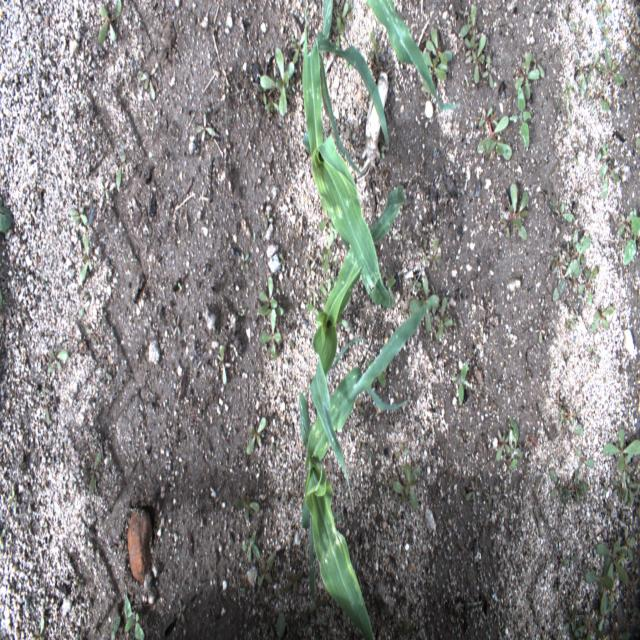crop: (298, 300, 434, 638), (309, 185, 406, 495), (302, 9, 393, 309), (321, 0, 459, 111)
weed: (258, 47, 294, 116), (477, 106, 512, 160), (410, 270, 440, 332), (500, 182, 530, 240), (602, 429, 640, 472), (392, 463, 421, 510), (596, 542, 628, 584), (549, 252, 575, 303), (509, 85, 530, 148), (422, 51, 449, 99), (565, 227, 591, 276), (556, 82, 583, 128), (258, 308, 282, 359), (515, 52, 540, 99), (596, 46, 626, 85), (502, 414, 522, 470), (464, 34, 486, 84), (425, 28, 453, 66), (98, 0, 122, 44), (577, 264, 599, 307), (600, 557, 616, 615), (125, 594, 145, 640), (561, 468, 587, 503), (318, 195, 338, 240), (433, 296, 453, 340), (598, 160, 620, 199), (259, 276, 281, 314), (623, 217, 640, 266), (246, 416, 267, 455), (459, 5, 477, 48), (453, 364, 471, 406), (589, 304, 614, 334), (574, 616, 605, 639), (549, 197, 576, 223), (235, 493, 260, 521), (585, 570, 615, 593), (139, 66, 157, 102), (495, 426, 513, 462), (256, 553, 274, 588), (242, 530, 260, 565), (88, 451, 102, 495), (550, 470, 567, 506), (617, 528, 636, 560), (80, 232, 92, 282), (282, 568, 303, 596), (290, 31, 308, 63), (46, 348, 69, 373), (217, 344, 231, 385), (590, 85, 610, 113), (321, 230, 334, 272), (527, 50, 545, 80), (68, 201, 88, 227), (367, 360, 386, 387), (562, 603, 578, 635), (196, 112, 213, 142), (0, 196, 13, 234), (621, 448, 635, 483), (574, 445, 595, 468), (598, 603, 614, 633), (332, 17, 346, 51), (482, 54, 496, 88), (574, 58, 586, 97), (594, 0, 612, 25), (586, 52, 600, 84), (115, 153, 127, 190), (598, 16, 612, 47), (8, 483, 20, 518), (617, 212, 634, 236), (465, 475, 479, 503), (624, 476, 638, 504), (533, 505, 545, 537), (612, 478, 628, 502), (42, 386, 51, 428), (561, 549, 579, 570), (319, 280, 335, 303), (306, 290, 320, 316), (309, 597, 328, 615), (430, 238, 440, 272), (336, 2, 348, 30), (464, 37, 478, 61), (586, 342, 601, 364), (256, 82, 270, 105), (484, 484, 498, 507), (478, 106, 493, 127), (275, 612, 286, 640), (370, 31, 379, 65), (394, 441, 410, 460), (430, 282, 438, 318), (34, 616, 46, 639), (344, 0, 356, 23), (171, 312, 182, 337), (257, 306, 284, 316), (568, 19, 586, 34), (408, 275, 422, 294), (110, 615, 121, 639), (262, 209, 274, 231), (558, 250, 570, 272), (176, 599, 186, 625), (304, 258, 317, 278), (570, 416, 583, 436), (99, 178, 110, 201), (80, 292, 90, 317), (239, 250, 250, 272), (265, 98, 280, 114), (290, 27, 302, 47), (317, 250, 329, 270), (334, 314, 350, 328), (389, 512, 403, 528), (535, 324, 545, 346), (387, 278, 396, 302), (420, 239, 429, 263), (585, 602, 594, 626), (353, 396, 364, 415), (360, 442, 373, 458), (396, 492, 409, 508), (630, 44, 639, 67), (565, 314, 577, 331), (0, 528, 8, 552), (286, 73, 296, 92), (279, 83, 290, 100), (73, 577, 85, 592), (221, 66, 230, 86), (264, 619, 274, 637), (596, 145, 608, 160), (302, 0, 313, 16), (402, 223, 411, 242), (630, 488, 639, 507), (330, 246, 340, 263), (562, 9, 571, 27), (270, 440, 280, 456), (278, 252, 286, 272), (604, 132, 612, 149), (561, 409, 568, 425), (578, 234, 586, 248), (624, 598, 631, 614), (288, 336, 296, 349), (458, 9, 469, 18), (617, 632, 630, 639), (344, 61, 354, 70), (565, 242, 570, 259), (381, 266, 388, 278), (352, 355, 362, 363), (241, 588, 252, 595), (336, 513, 344, 522), (381, 144, 385, 160), (177, 281, 183, 291), (635, 137, 640, 149), (465, 78, 470, 87), (286, 624, 289, 638), (238, 310, 243, 317)
